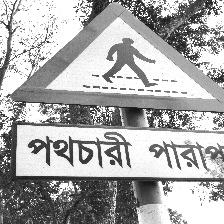Pedestrian-crossing: (12, 7, 222, 181)
